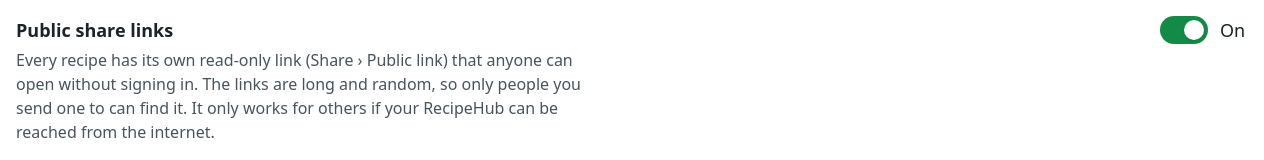
Test: Public share links switch (Settings › Recipes) › saves right away
The width and height of the screenshot is (1264, 160).
Click the switch named "Public share links": (1184, 30) [1160,16,1208,44]
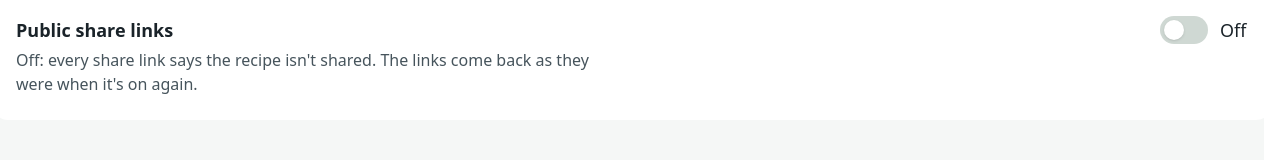
expect the switch named "Public share links" is not checked: met, box [1160,16,1208,44]
